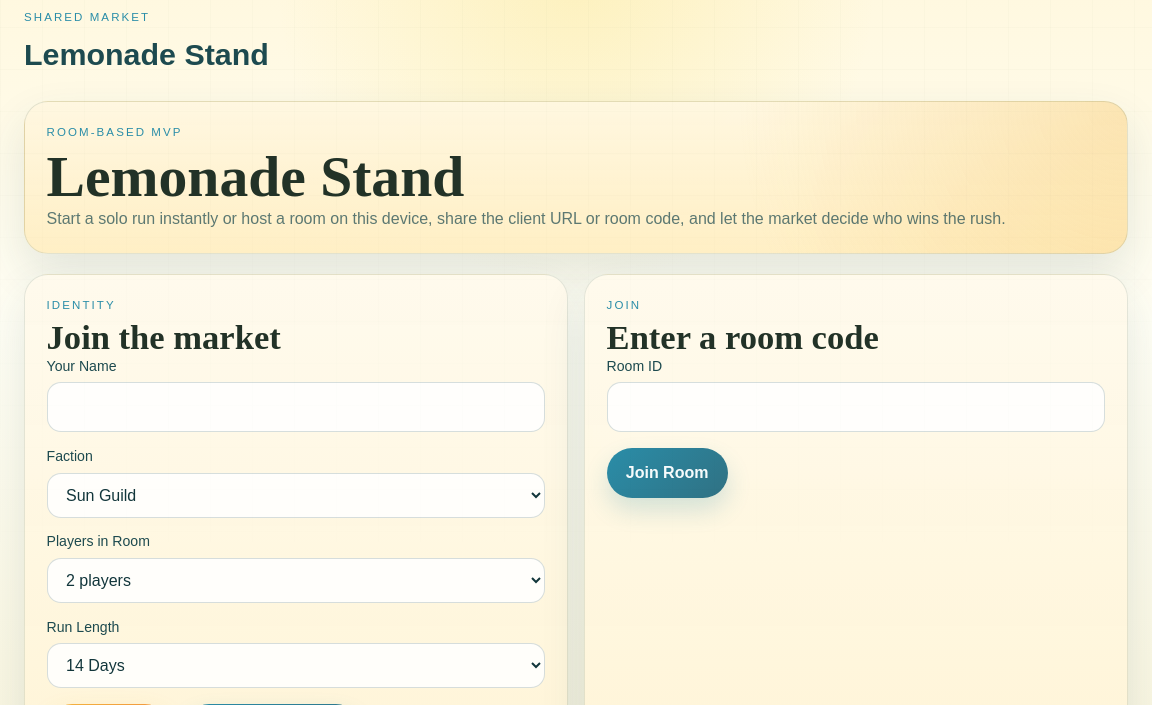
Test: App › shows the hint upgrade as owned once it has been unlocked
The image size is (1152, 705).
Step 1. Type "Alex" into the field labelled "Your Name" → (296, 407), box [47,382,545,432]
(page scrolled)
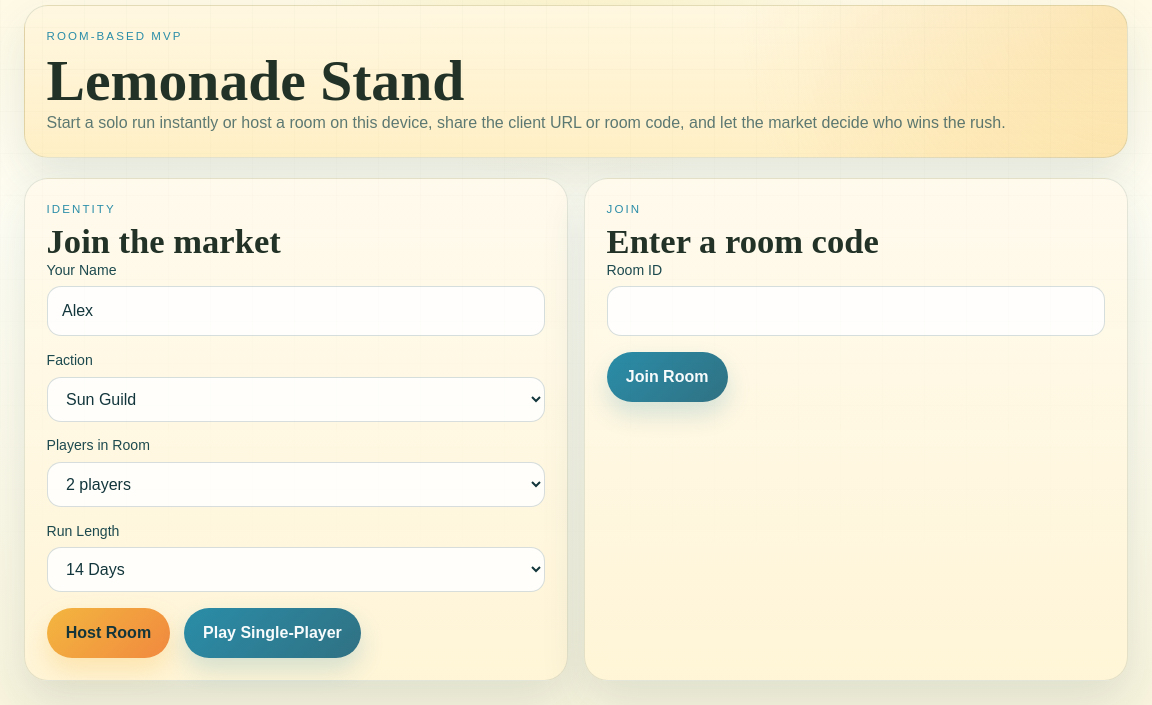
Step 2. Click the button "Host Room" → click(108, 633), box [47,608,170,658]
(page scrolled)
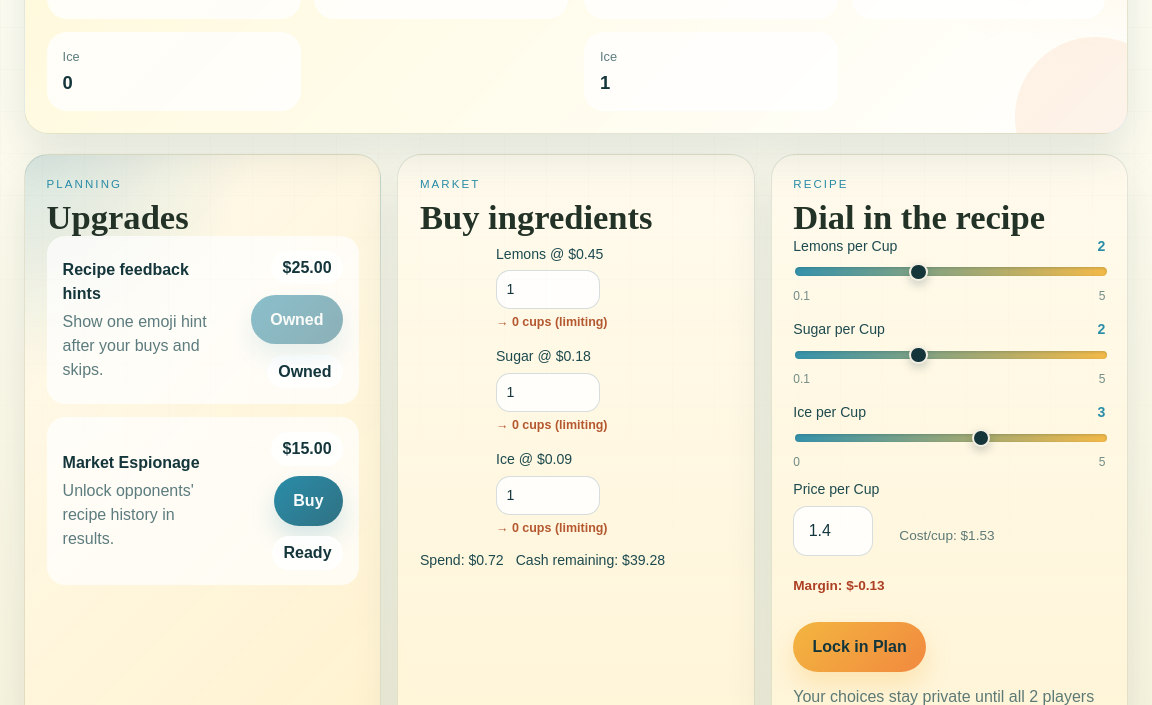
Now the text named "recipe feedback hints status: owned" is shown, box [267,355,343,388]
Now the button "Owned" is disabled, box [251,295,343,344]
Now the text "Show one emoji hint after your buys and skips." is shown, box [63,310,211,382]
